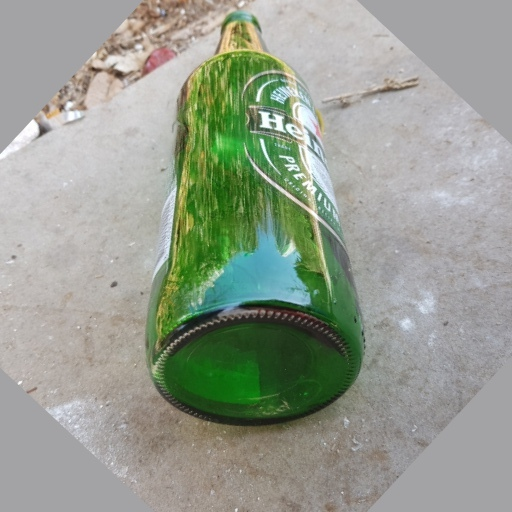Glass_1: (142, 16, 364, 428)
